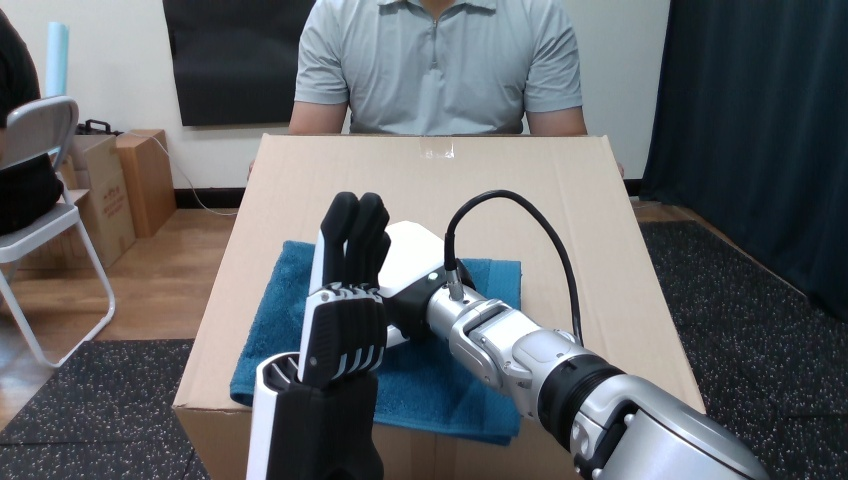left robot hand: (247, 190, 767, 479), (454, 197, 573, 333)
